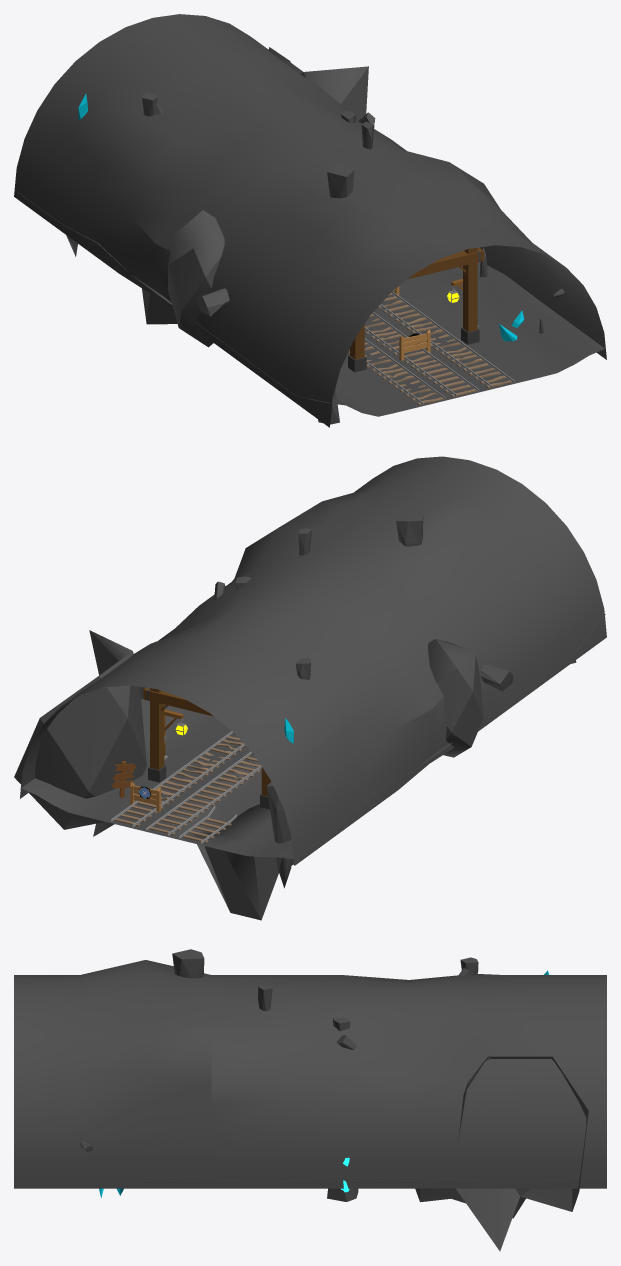
Rendered from Modulo Obstaculo 7.fbx.
3 renders of one model, top to bottom at view 1: azimuth 30°, elevation 25°; view 2: azimuth 150°, elevation 25°; view 3: azimuth 270°, elevation 25°, orthographic. The views are drawn at different scales.
Parts seen in each view (by area): view 1: Plane.013; view 2: Plane.013; view 3: Plane.013.
Boxes of the visible parts, x1=… form: Plane.013: x1=14, y1=14, x2=606, y2=427; Plane.013: x1=14, y1=456, x2=606, y2=920; Plane.013: x1=14, y1=949, x2=606, y2=1251.
Size of the model in its own units: 2716 by 2303 by 4761.
